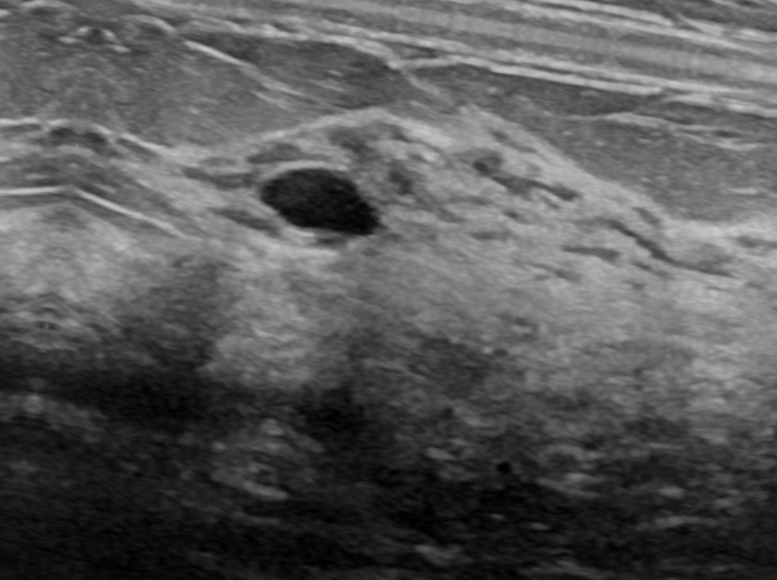Benign: (260, 155, 385, 251)
